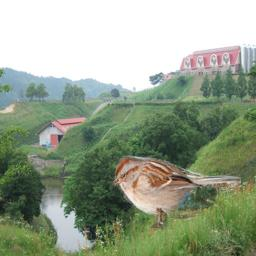Sparrow: (111, 155, 241, 228)
